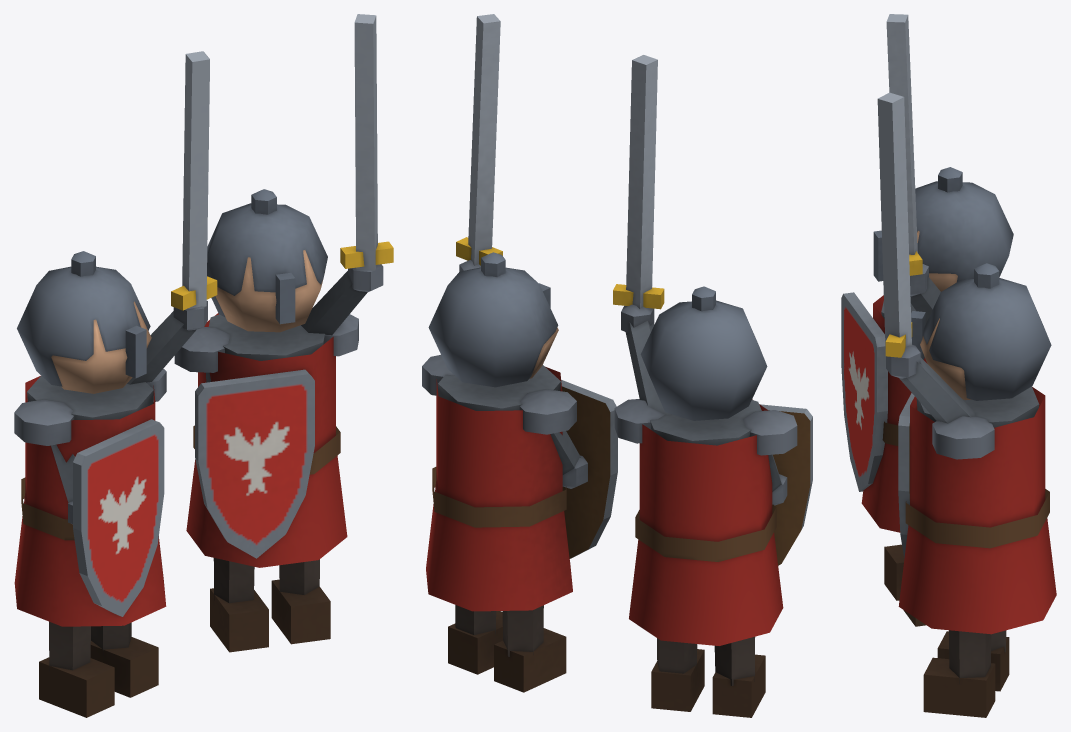
Rendered from sentry_dl3_red.glb.
3 views of the same model, side by side, from view 1: azimuth 30°, elevation 25°; view 2: azimuth 150°, elevation 25°; view 3: azimuth 270°, elevation 25° (orthographic). The views are drawn at different scales.
Visible parts, largest first — view 1: sentry_dl3_red; view 2: sentry_dl3_red; view 3: sentry_dl3_red.
Part boxes in pixels (left/top/right/bottom): sentry_dl3_red: left=14, top=14, right=393, bottom=717; sentry_dl3_red: left=422, top=14, right=812, bottom=717; sentry_dl3_red: left=841, top=14, right=1056, bottom=717.
Bounding box in the file's own units: 0.3402 × 0.5703 × 0.1787.
1 material, 1 textured.
